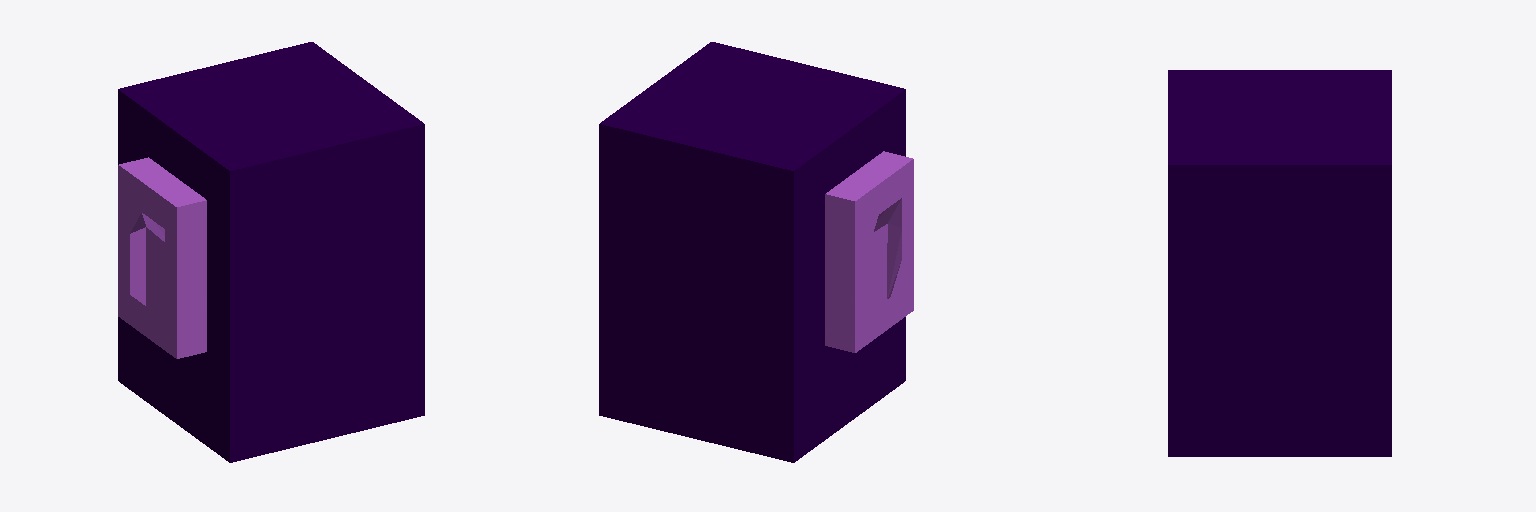
The picture shows the model from 3 angles: view 1: azimuth 30°, elevation 25°; view 2: azimuth 150°, elevation 25°; view 3: azimuth 270°, elevation 25°; orthographic projection.
Visible parts, largest first — view 1: Box022; view 2: Box022; view 3: Box022.
Part boxes in pixels (left/top/right/bottom): Box022: left=118, top=42, right=424, bottom=462; Box022: left=599, top=42, right=913, bottom=462; Box022: left=1168, top=70, right=1391, bottom=456.
Bounding box in the file's own units: 6.49 × 8.03 × 5.61.
Materials: 2 (2 with a texture image).